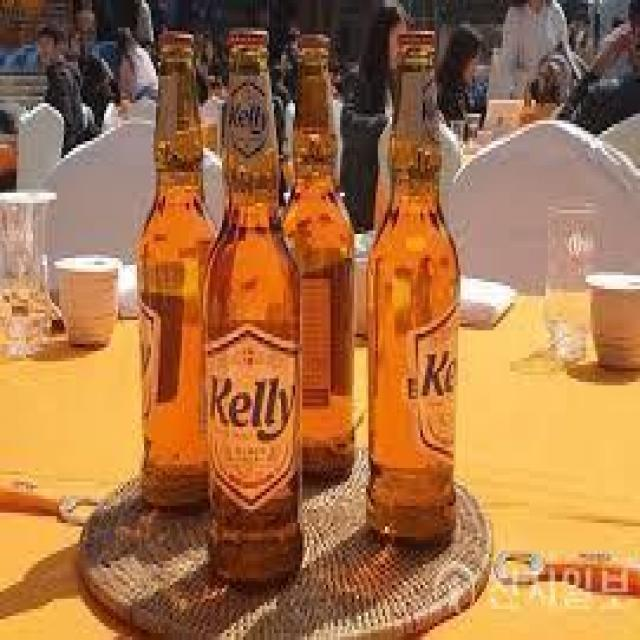beer-bottle: (200, 27, 312, 592), (358, 26, 466, 546), (138, 31, 228, 520), (278, 29, 362, 494)
